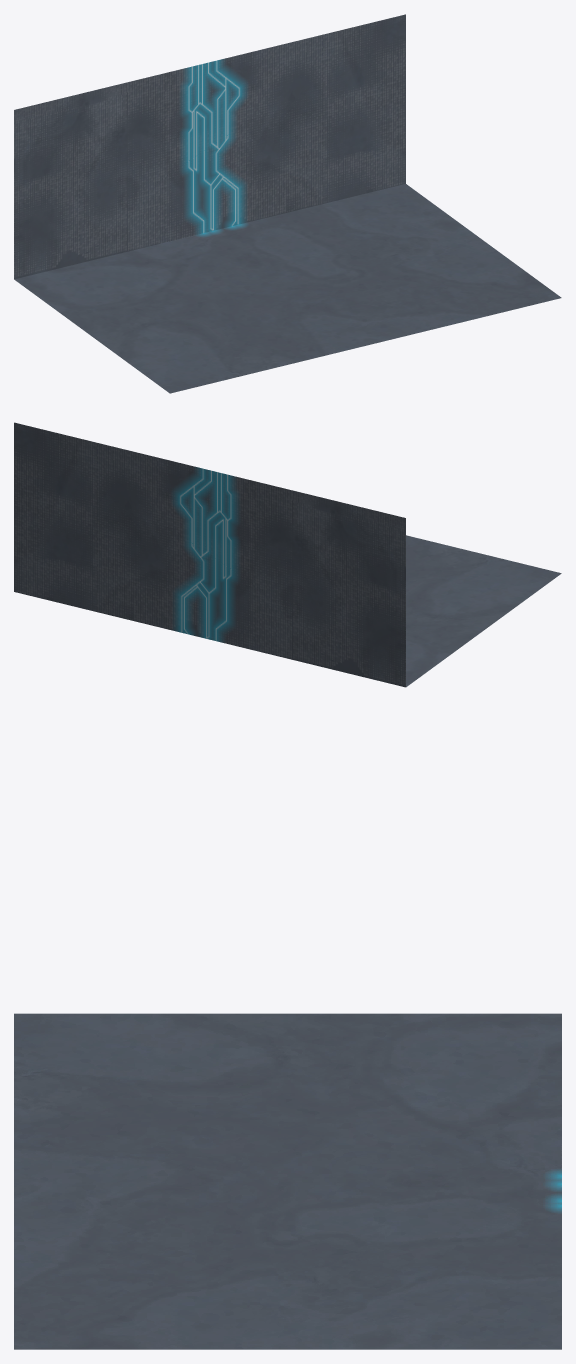
File: backdrop.glb
3 views of the same model, one above another, from view 1: azimuth 30°, elevation 25°; view 2: azimuth 150°, elevation 25°; view 3: azimuth 270°, elevation 25° (orthographic). The views are drawn at different scales.
Parts seen in each view (by area): view 1: Plane.001; view 2: Plane.001; view 3: Plane.001.
Boxes of the visible parts, box(x1,y1,x2,y2) form: Plane.001: box(14, 14, 561, 393); Plane.001: box(14, 422, 561, 687); Plane.001: box(14, 1013, 561, 1349).
Bounding box in the file's own units: 7.25 × 3 × 5.
1 material, 1 textured.
